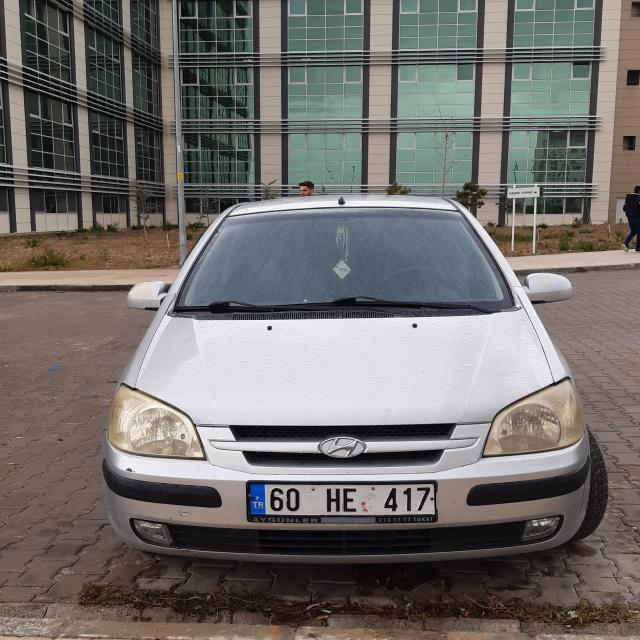license_plate: (248, 482, 439, 518)
